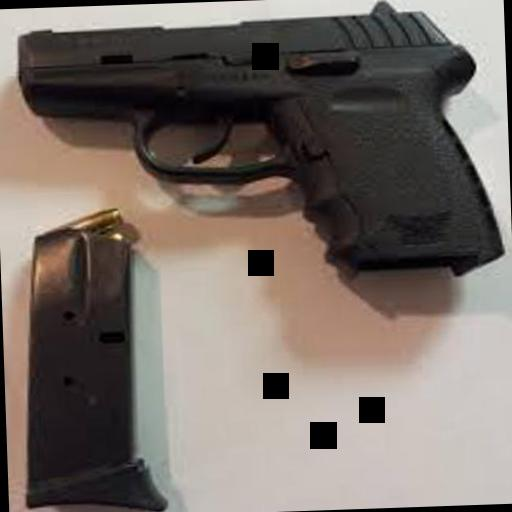Handgun: (9, 0, 502, 294)
